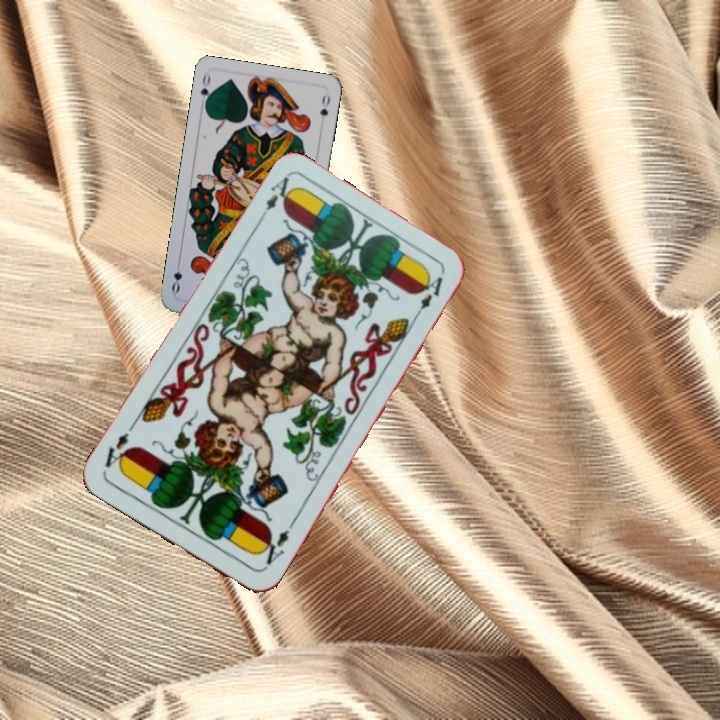EA: (253, 172, 297, 226), (254, 525, 292, 572)
GO: (196, 70, 215, 111)
